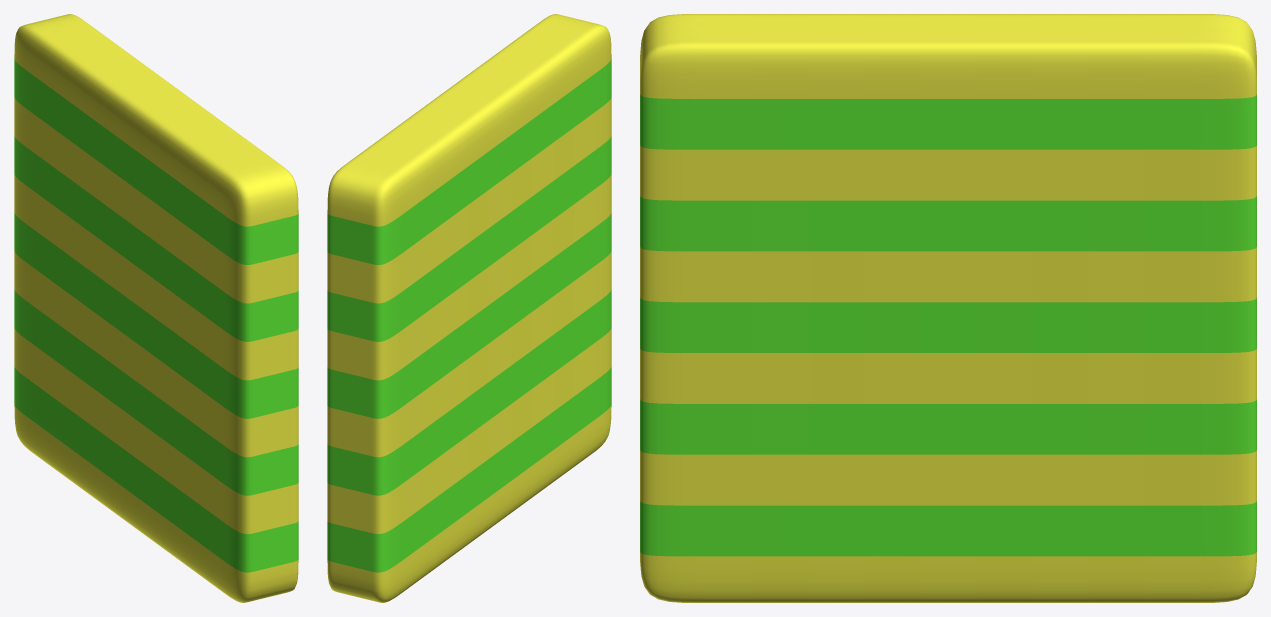
3 renders of one model, left to right at view 1: azimuth 30°, elevation 25°; view 2: azimuth 150°, elevation 25°; view 3: azimuth 270°, elevation 25°, orthographic. The views are drawn at different scales.
Visible parts, largest first — view 1: W2; view 2: W2; view 3: W2.
Boxes of the visible parts, <box> form: W2: <box>14,14,298,602</box>; W2: <box>327,14,611,602</box>; W2: <box>640,14,1256,602</box>.
Size of the model in its own units: 0.3 by 2 by 2.
1 material, 1 textured.
